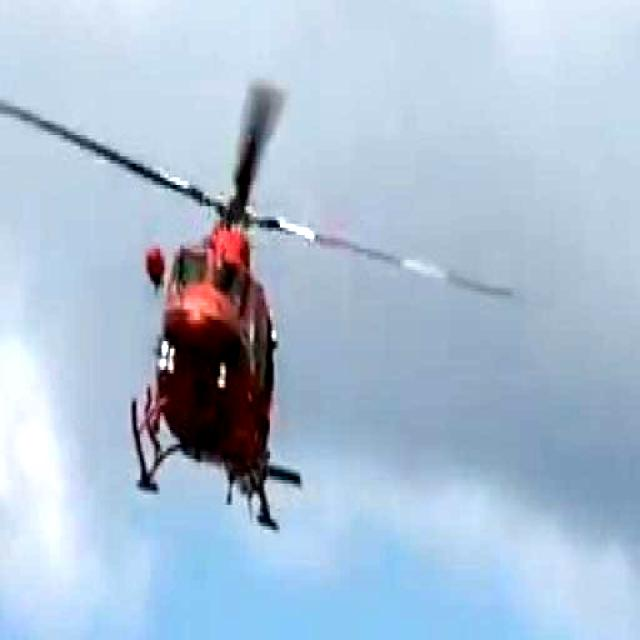drone: (65, 60, 326, 559)
